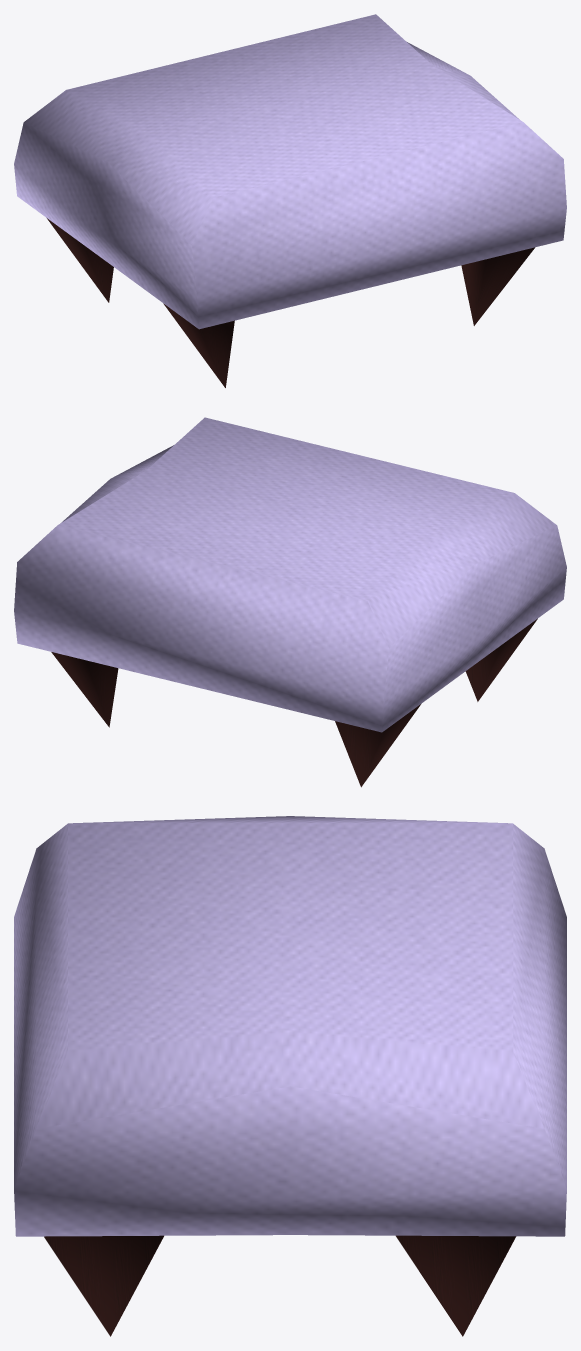
The model's file is WA_Footstool_E_2.FBX.
3 views of the same model, one above another, from view 1: azimuth 30°, elevation 25°; view 2: azimuth 150°, elevation 25°; view 3: azimuth 270°, elevation 25° (orthographic). The views are drawn at different scales.
Visible parts, largest first — view 1: Footstool; view 2: Footstool; view 3: Footstool.
Boxes of the visible parts, left/top/right/bottom form: Footstool: left=14, top=14, right=566, bottom=387; Footstool: left=14, top=417, right=566, bottom=787; Footstool: left=14, top=816, right=566, bottom=1336.
Bounding box in the file's own units: 127 × 65.76 × 103.
